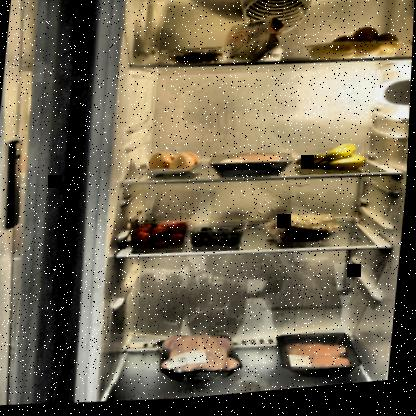banana: (293, 143, 372, 183)
blueberries: (187, 219, 256, 255)
chicken: (272, 333, 371, 389), (157, 330, 247, 391)
eggs: (147, 150, 202, 183)
potato: (304, 26, 405, 72)
shrimp: (164, 50, 226, 73)
strawberries: (131, 217, 193, 253)
